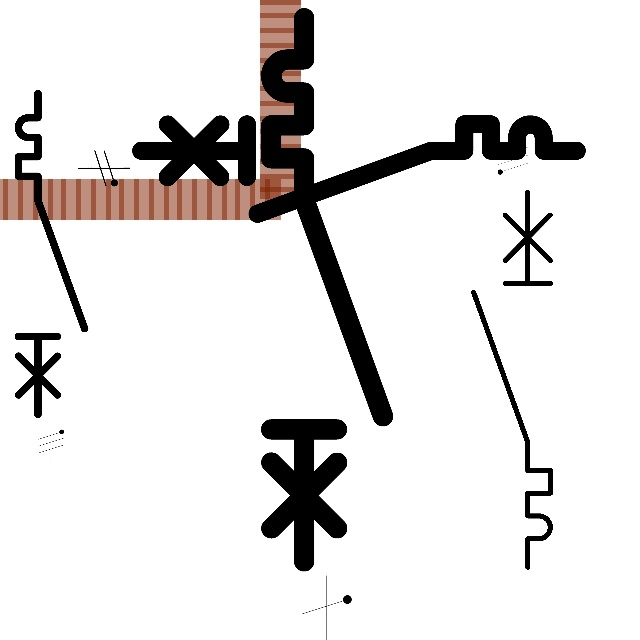interruptor_termomagnetico: (257, 4, 397, 575), (129, 113, 588, 225), (464, 182, 560, 576), (10, 85, 92, 423)
